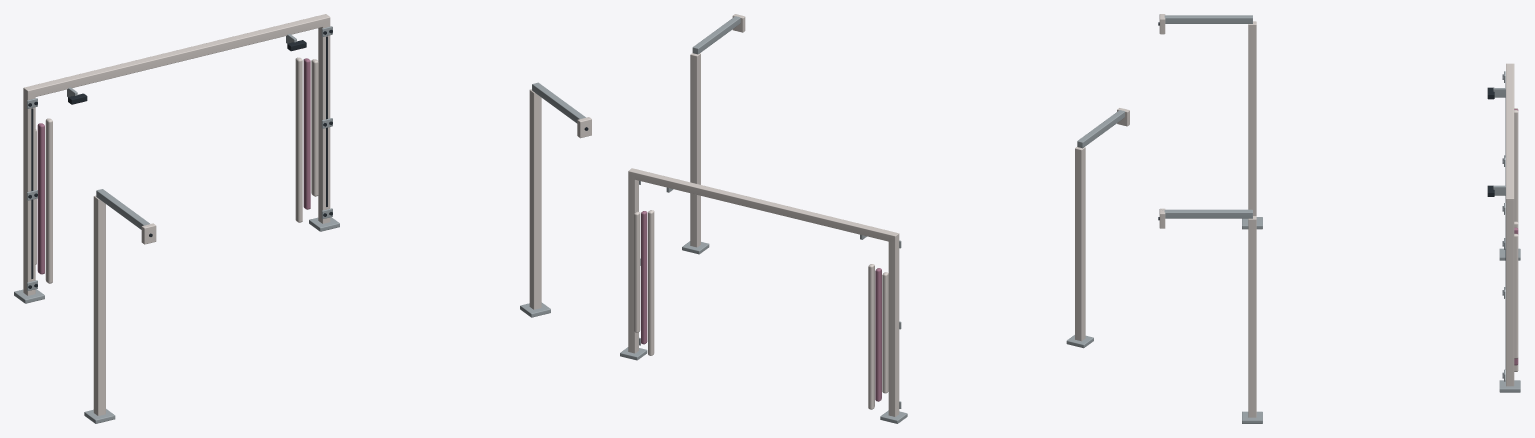
File: design.glb
3 views of the same model, side by side, from view 1: azimuth 30°, elevation 25°; view 2: azimuth 150°, elevation 25°; view 3: azimuth 270°, elevation 25° (orthographic). The views are drawn at different scales.
Parts seen in each view (by area): view 1: Roofless modular frame design; view 2: Roofless modular frame design; view 3: Roofless modular frame design.
Part boxes in pixels (box(x1,y1,x2,y2)): Roofless modular frame design: box(14, 14, 591, 423); Roofless modular frame design: box(620, 14, 1129, 423); Roofless modular frame design: box(1158, 14, 1520, 423).
Bounding box in the file's own units: 6.86 × 3.32 × 5.16.
